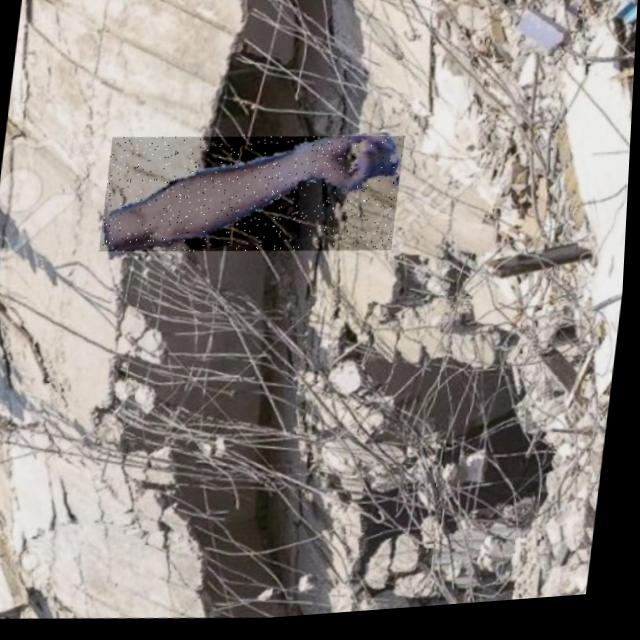Person in Rubble: (101, 120, 407, 272)
